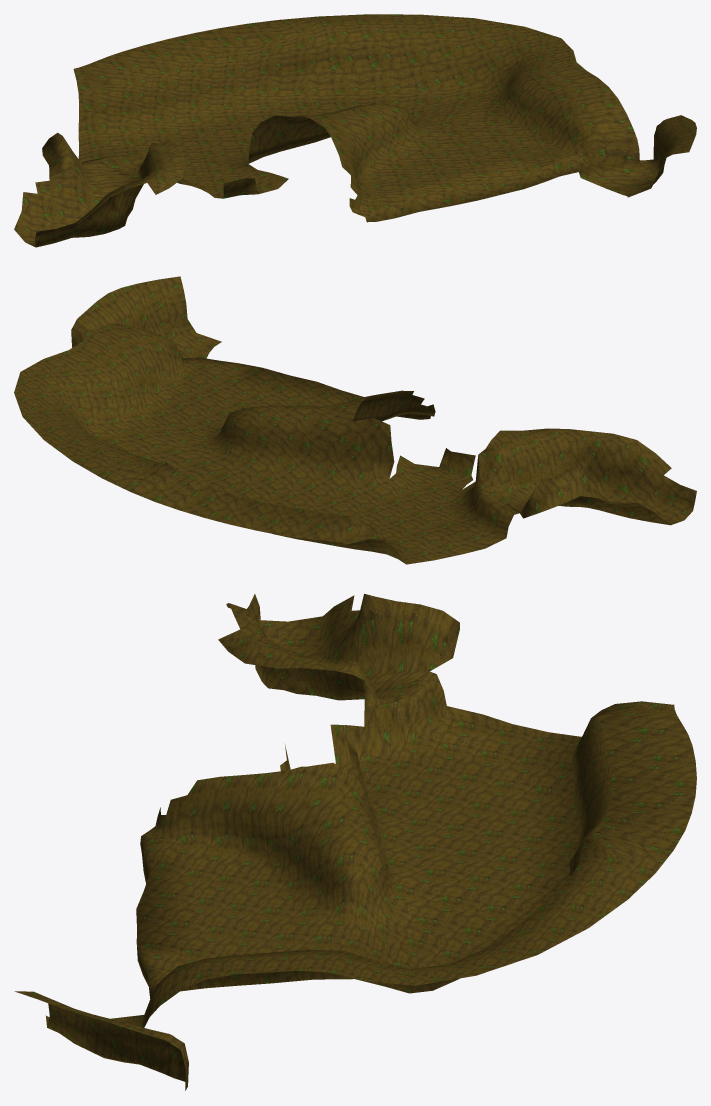
Rendered from MIRKWOOD_AREA1.fbx.
The picture shows the model from 3 angles, top to bottom: view 1: azimuth 30°, elevation 25°; view 2: azimuth 150°, elevation 25°; view 3: azimuth 270°, elevation 25°; orthographic projection. The views are drawn at different scales.
Visible parts, largest first — view 1: MIRKWOOD_AREA1; view 2: MIRKWOOD_AREA1; view 3: MIRKWOOD_AREA1.
Part boxes in pixels (x1=…): MIRKWOOD_AREA1: x1=14, y1=14, x2=696, y2=247; MIRKWOOD_AREA1: x1=14, y1=276, x2=696, y2=564; MIRKWOOD_AREA1: x1=14, y1=593, x2=696, y2=1090.
Size of the model in its own units: 879990 by 113627 by 587922.
Materials: 1 (1 with a texture image).
